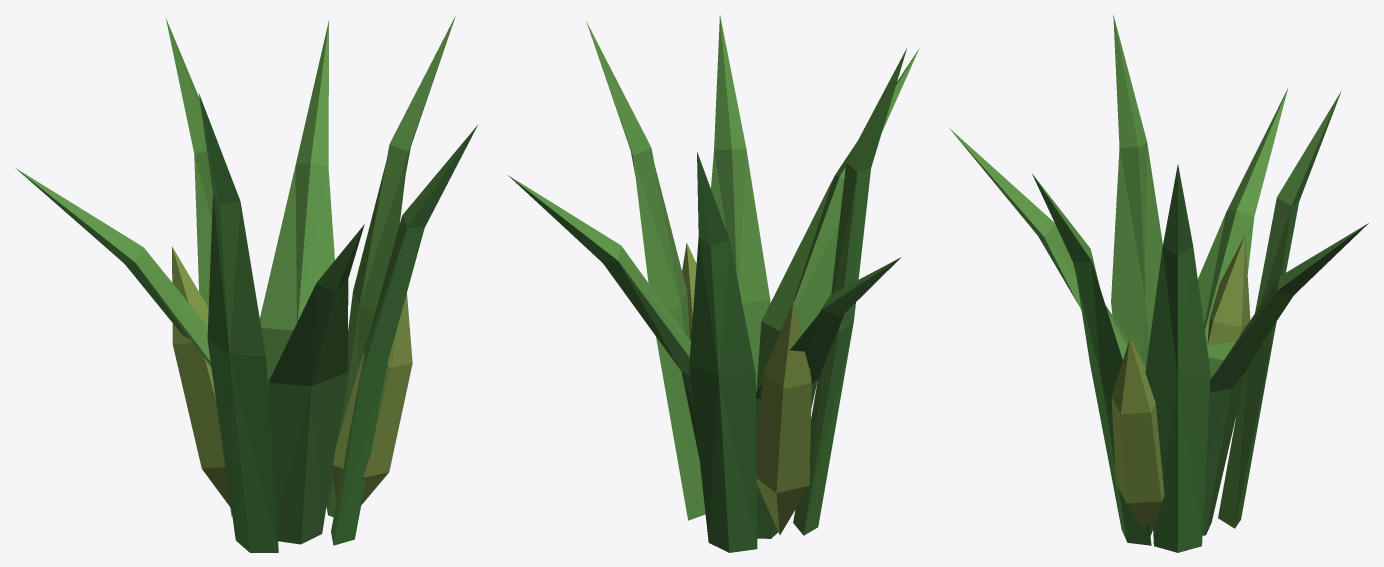
Rendered from rice_1.obj.
The picture shows the model from 3 angles, left to right: view 1: azimuth 30°, elevation 25°; view 2: azimuth 150°, elevation 25°; view 3: azimuth 270°, elevation 25°; orthographic projection. The views are drawn at different scales.
Visible parts, largest first — view 1: rice_1; view 2: rice_1; view 3: rice_1.
Boxes of the visible parts, bbox=[...] form: rice_1: bbox=[15, 16, 477, 552]; rice_1: bbox=[508, 15, 919, 552]; rice_1: bbox=[949, 15, 1368, 552].
Size of the model in its own units: 0.4238 by 0.5226 by 0.4382.
